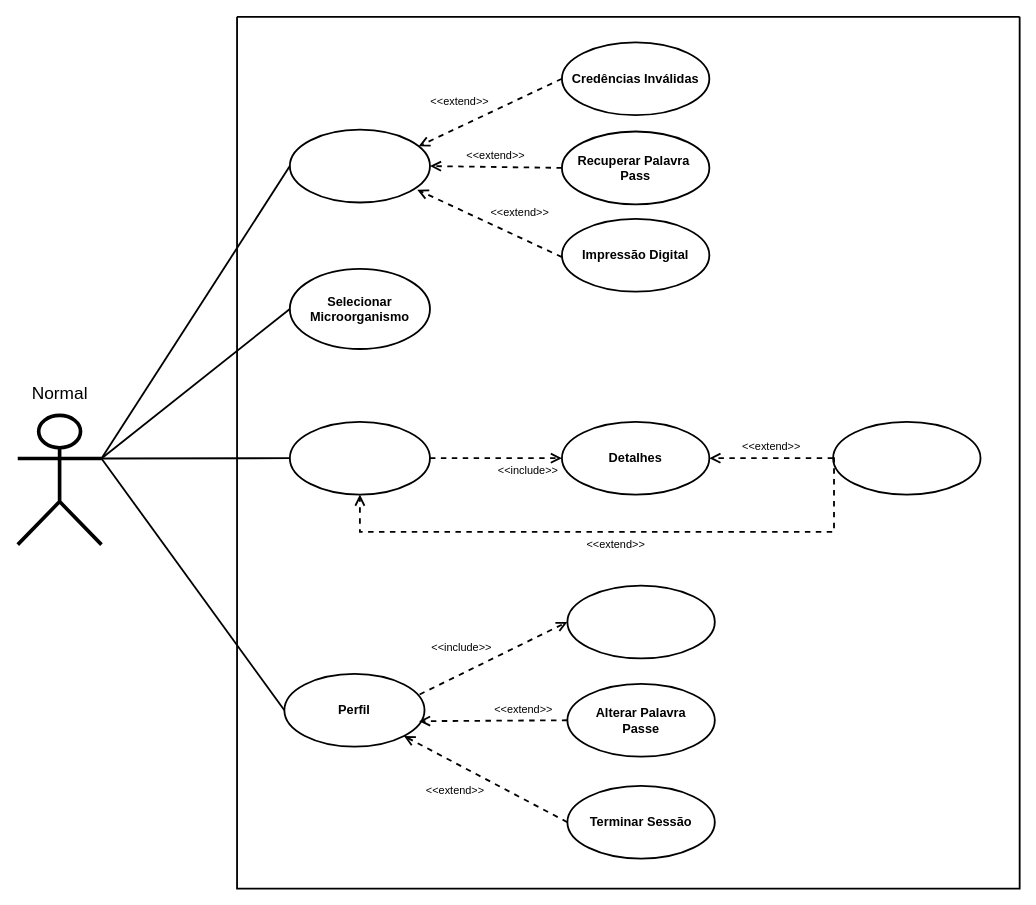
This 1036x905 diagram has some shape labels left out. Each missing label, with the box of its shape:
Detalhes do Utilizador: (566, 584, 715, 659)
Listar Bactérias / Leveduras: (288, 420, 430, 495)
LOGIN: (288, 128, 430, 203)
Pesquisar: (832, 420, 981, 495)
